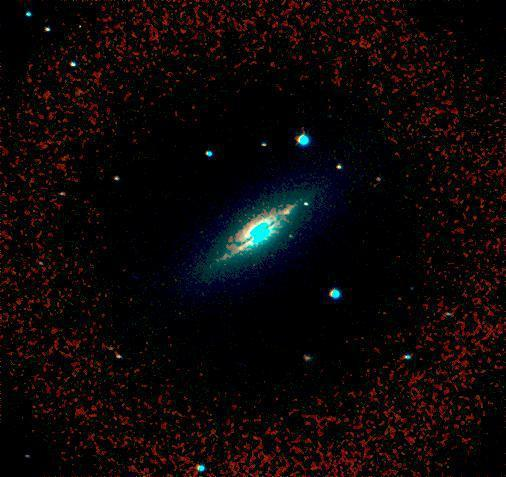star: (294, 189, 324, 219)
